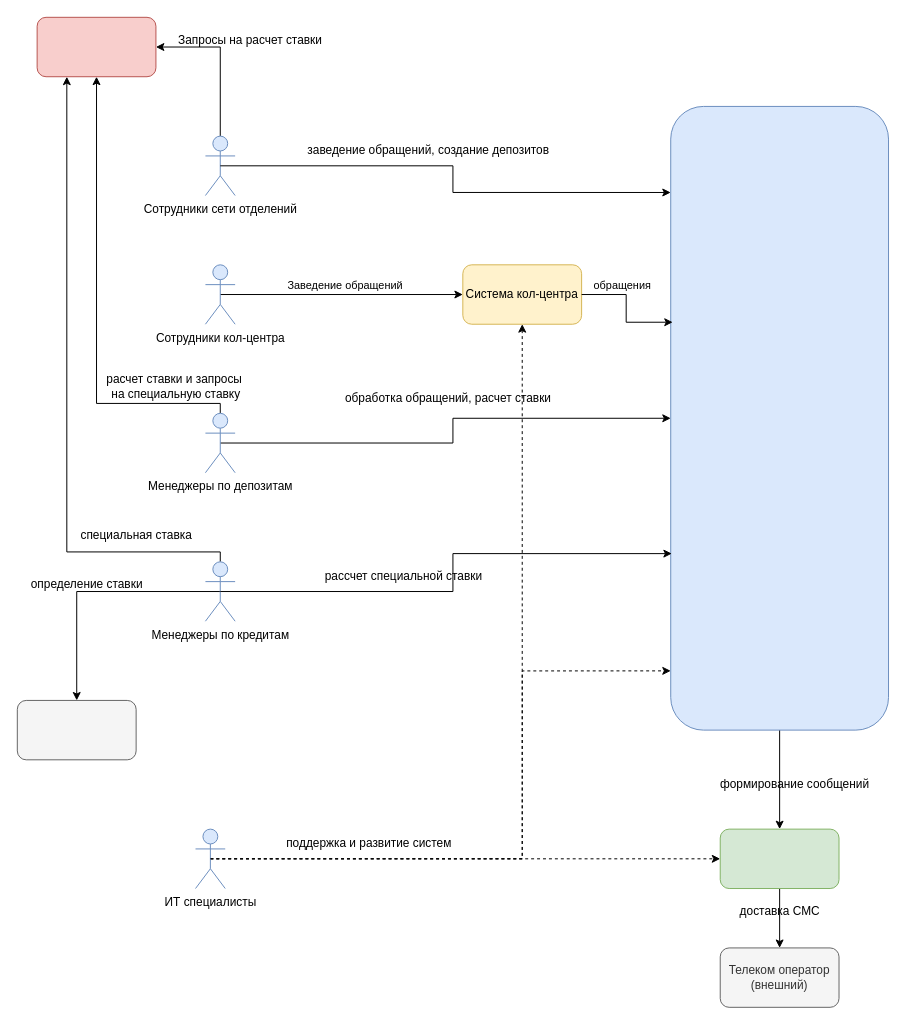
Image size: 906x1025. Some labels were removed from this diagram. The box of each missing label's shape, as (x1, y1, x2, y2) in pixels:
Автоматизированная банковская система (АБС): (670, 105, 889, 730)
СМС шлюз: (719, 828, 839, 889)
Центробанк ключевая ставка: (16, 699, 136, 760)
Электронная почта: (36, 16, 156, 77)
